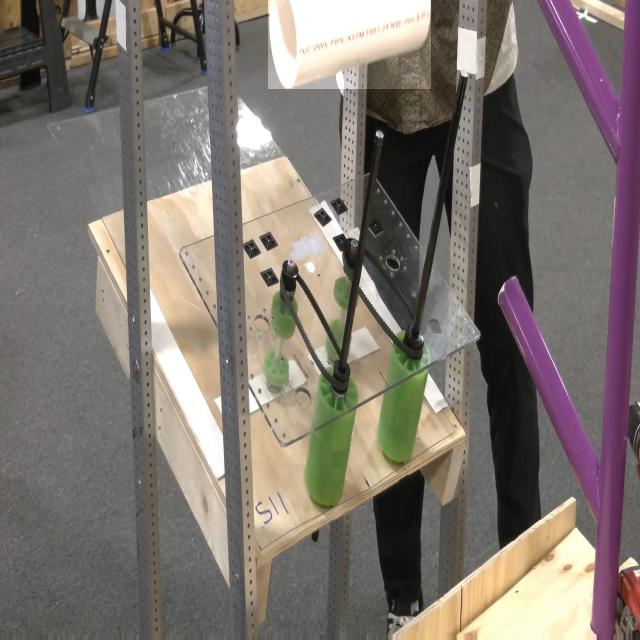Coral: (268, 0, 431, 89)
